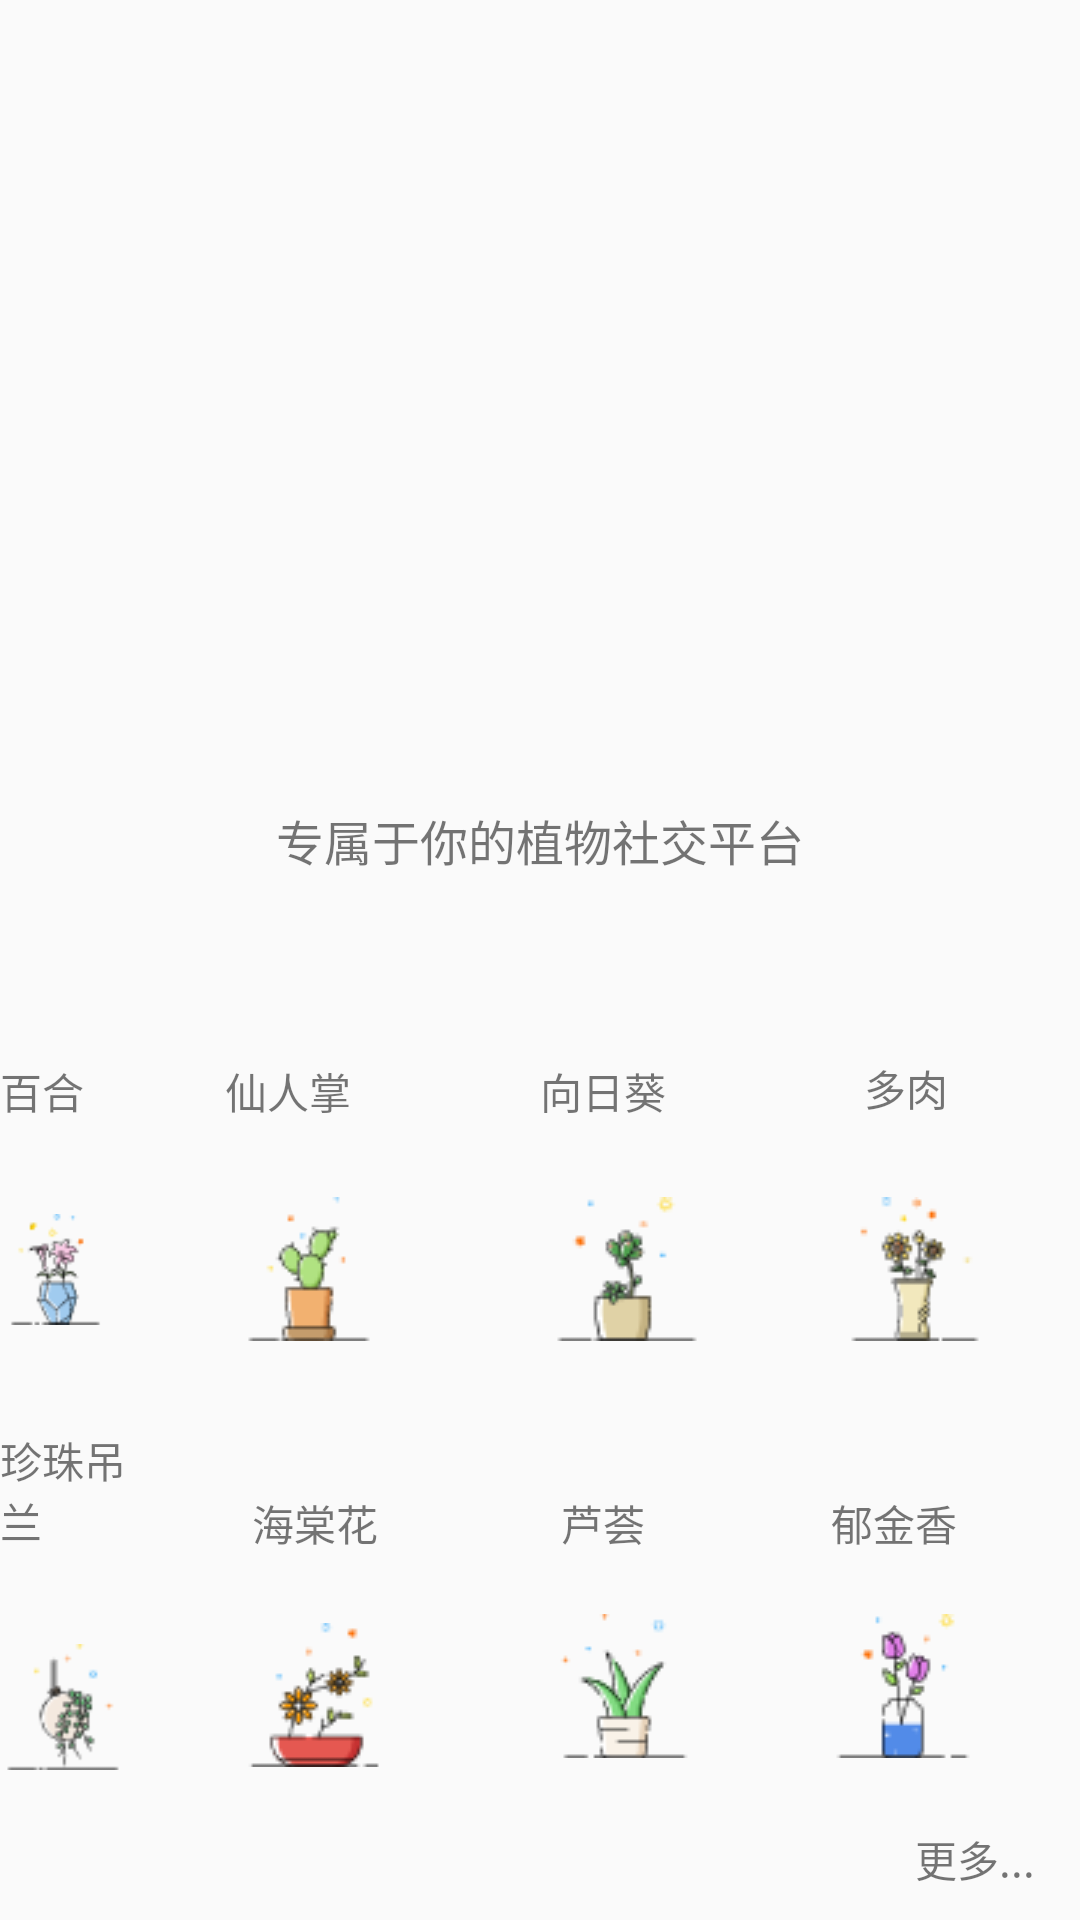

Icon bounding boxes for this 1080w x 1920h phone screenshot, format bbox=(x1, y1, x2, y2):
baihe: bbox=(11, 1214, 100, 1325)
haitanghua: bbox=(251, 1623, 379, 1767)
luhui: bbox=(562, 1614, 686, 1758)
xianrenzhang: bbox=(248, 1197, 369, 1341)
yujinxiang: bbox=(838, 1614, 968, 1758)
zhenzhudiaolan: bbox=(7, 1644, 119, 1770)
